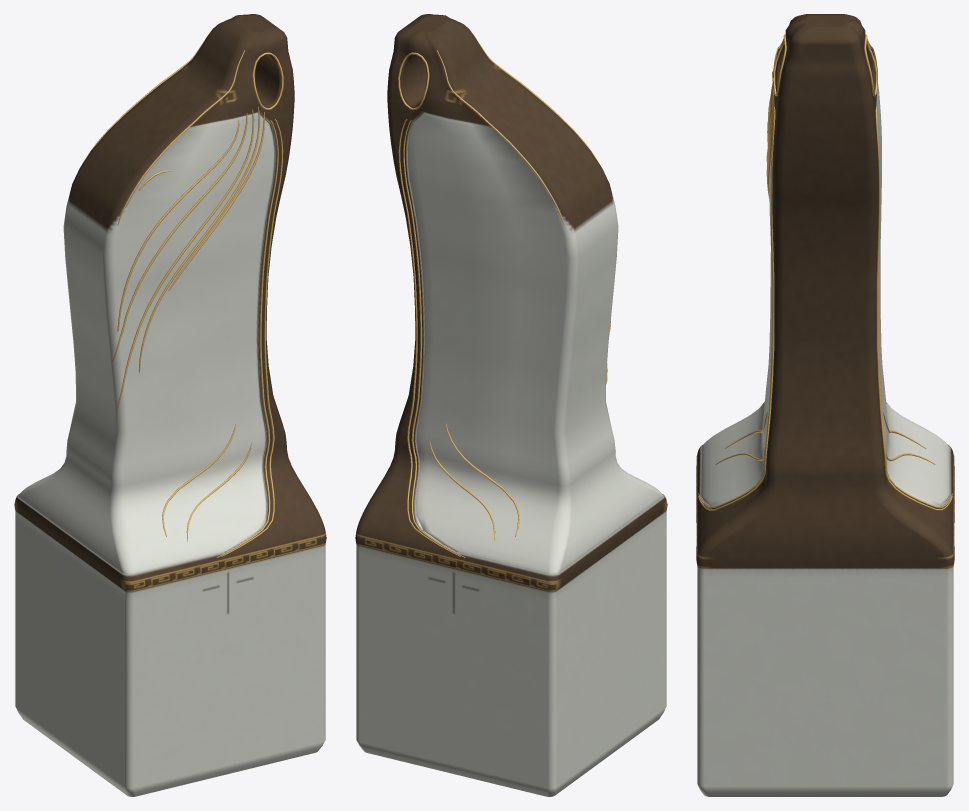
File: QingGuiR02B_Lookdev.glb
3 renders of one model, left to right at view 1: azimuth 30°, elevation 25°; view 2: azimuth 150°, elevation 25°; view 3: azimuth 270°, elevation 25°, orthographic. The views are drawn at different scales.
Parts seen in each view (by area): view 1: QingGuiR02_Body_LOD0, QingGuiR02_GoldWire_LOD0; view 2: QingGuiR02_Body_LOD0, QingGuiR02_GoldWire_LOD0; view 3: QingGuiR02_Body_LOD0, QingGuiR02_GoldWire_LOD0.
Boxes of the visible parts, x1,y1,x2,y2 form: QingGuiR02_Body_LOD0: [14, 14, 326, 796]; QingGuiR02_GoldWire_LOD0: [82, 28, 283, 557]; QingGuiR02_Body_LOD0: [355, 14, 667, 796]; QingGuiR02_GoldWire_LOD0: [398, 28, 610, 557]; QingGuiR02_Body_LOD0: [696, 14, 954, 796]; QingGuiR02_GoldWire_LOD0: [698, 20, 952, 510].
Size of the model in its own units: 0.11 by 0.35 by 0.1068.
2 materials, 1 textured.
